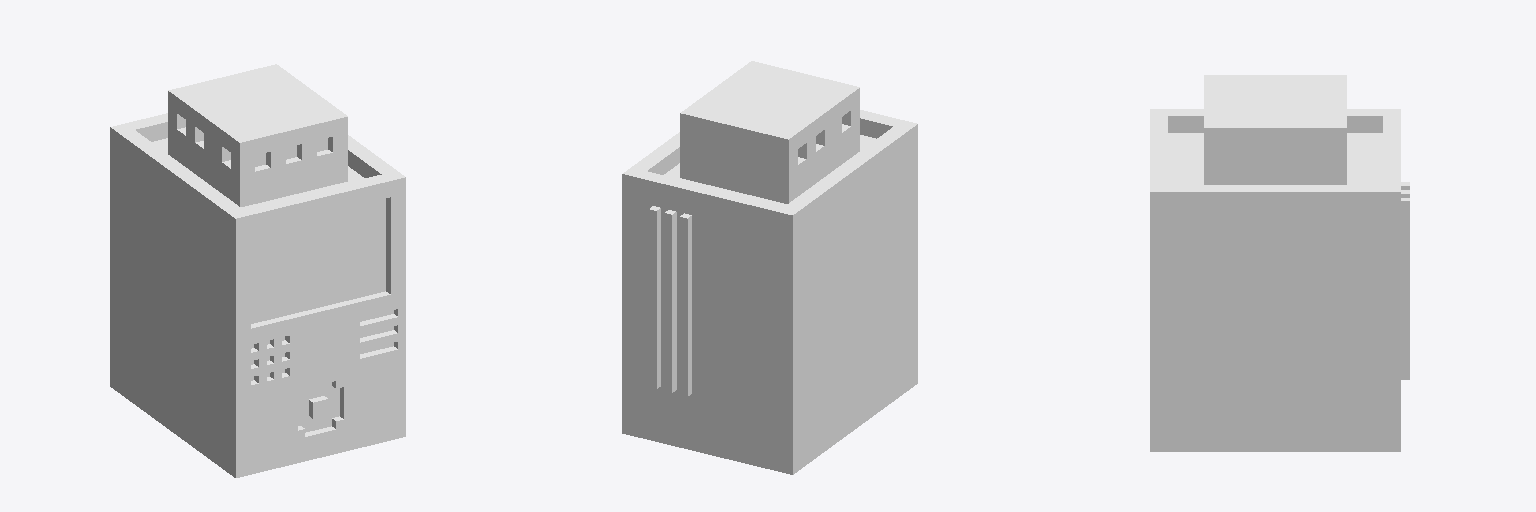
The model's file is 2pcError.obj.
3 views of the same model, side by side, from view 1: azimuth 30°, elevation 25°; view 2: azimuth 150°, elevation 25°; view 3: azimuth 270°, elevation 25° (orthographic).
Parts seen in each view (by area): view 1: object 1; view 2: object 1; view 3: object 1.
Boxes of the visible parts, <box> form: object 1: <box>110,64,405,477</box>; object 1: <box>622,61,917,474</box>; object 1: <box>1150,75,1409,451</box>.
Bounding box in the file's own units: 2.2 × 3.8 × 2.9.